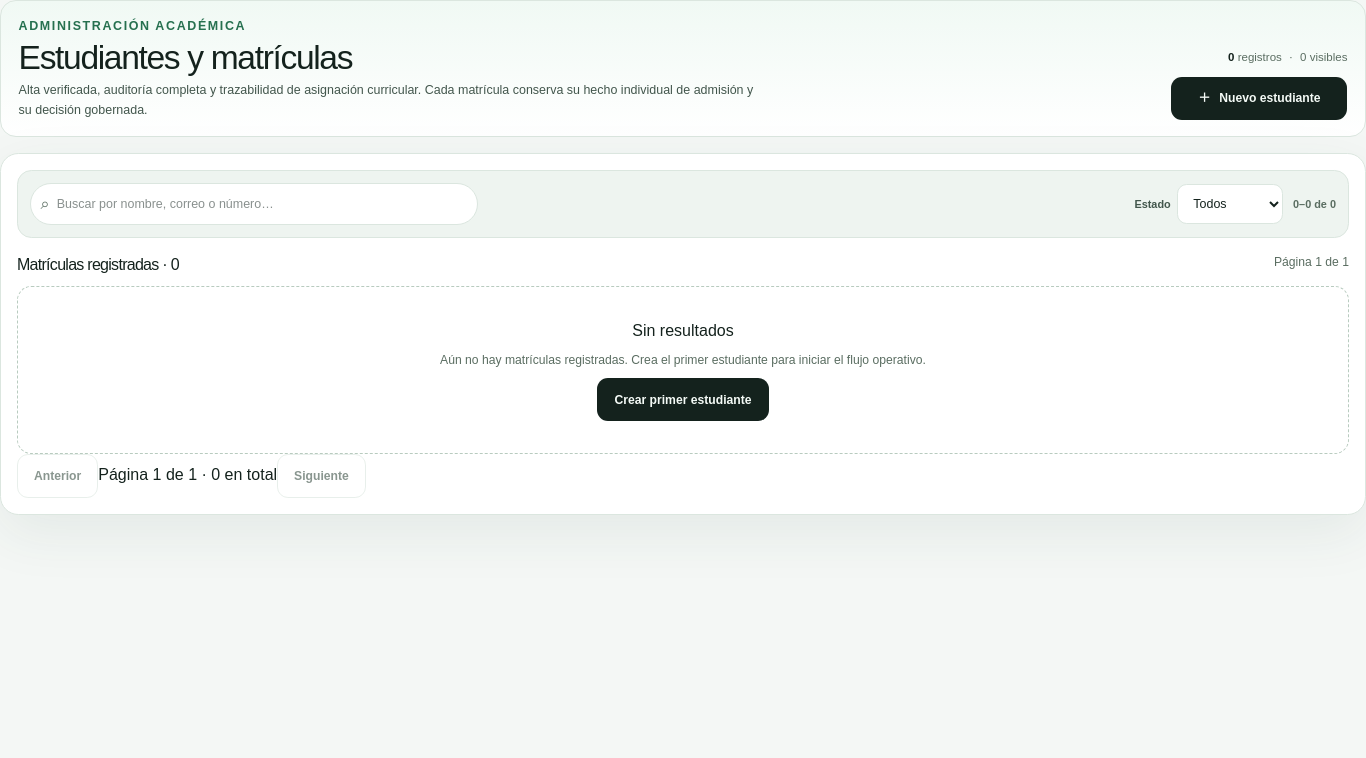
Scenario: StudentAdministrationWorkspace › allows creating a period inline when the catalog is empty
This screenshot has width=1366, height=758.
Click the button "＋ Nuevo estudiante". click: x=1259, y=98
box: [1171,77,1347,120]
(page scrolled)
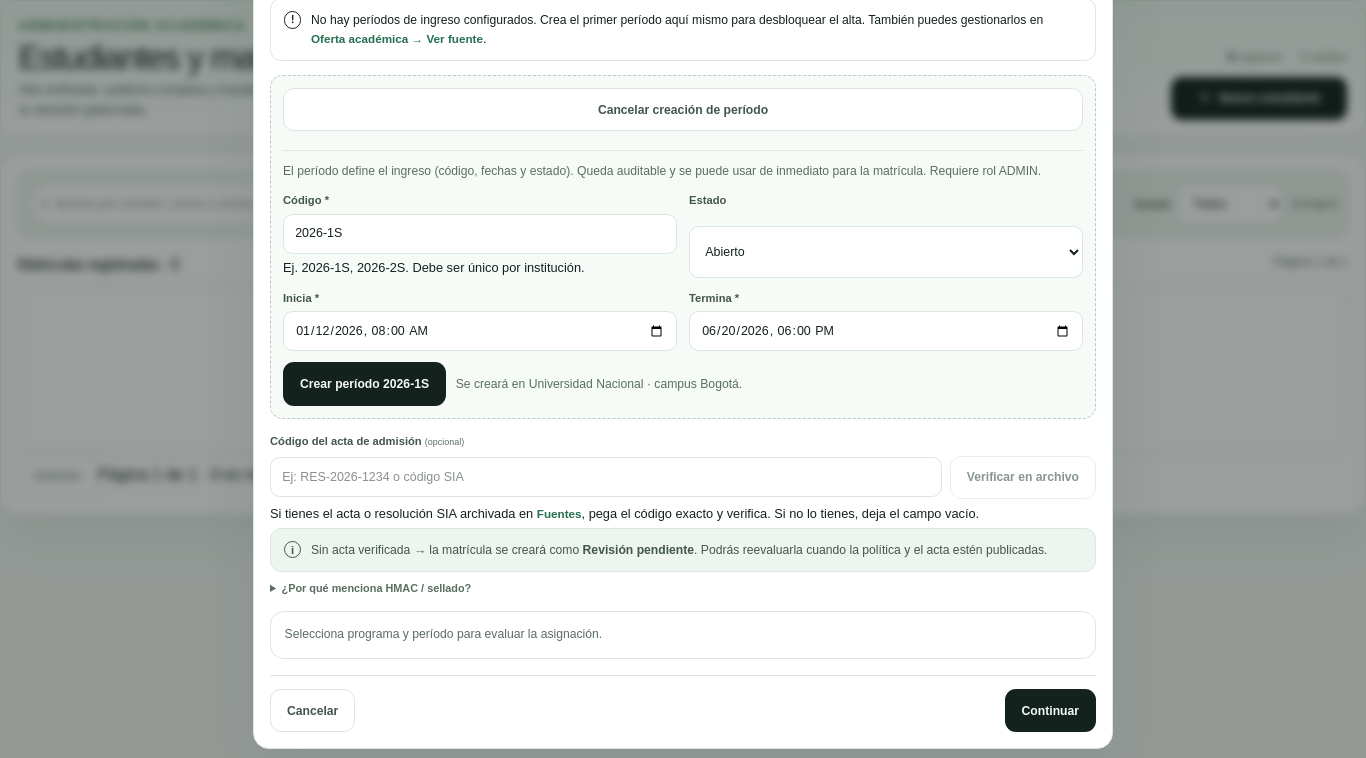
Check: the text "No hay períodos de ingreso configurados" is shown, box [311,13,1043,27]
Check: the field labelled "Código *" is shown, box [283,214,677,254]
Click the button "Crear período 2026-1S". click: x=365, y=384
box: [283,362,446,406]
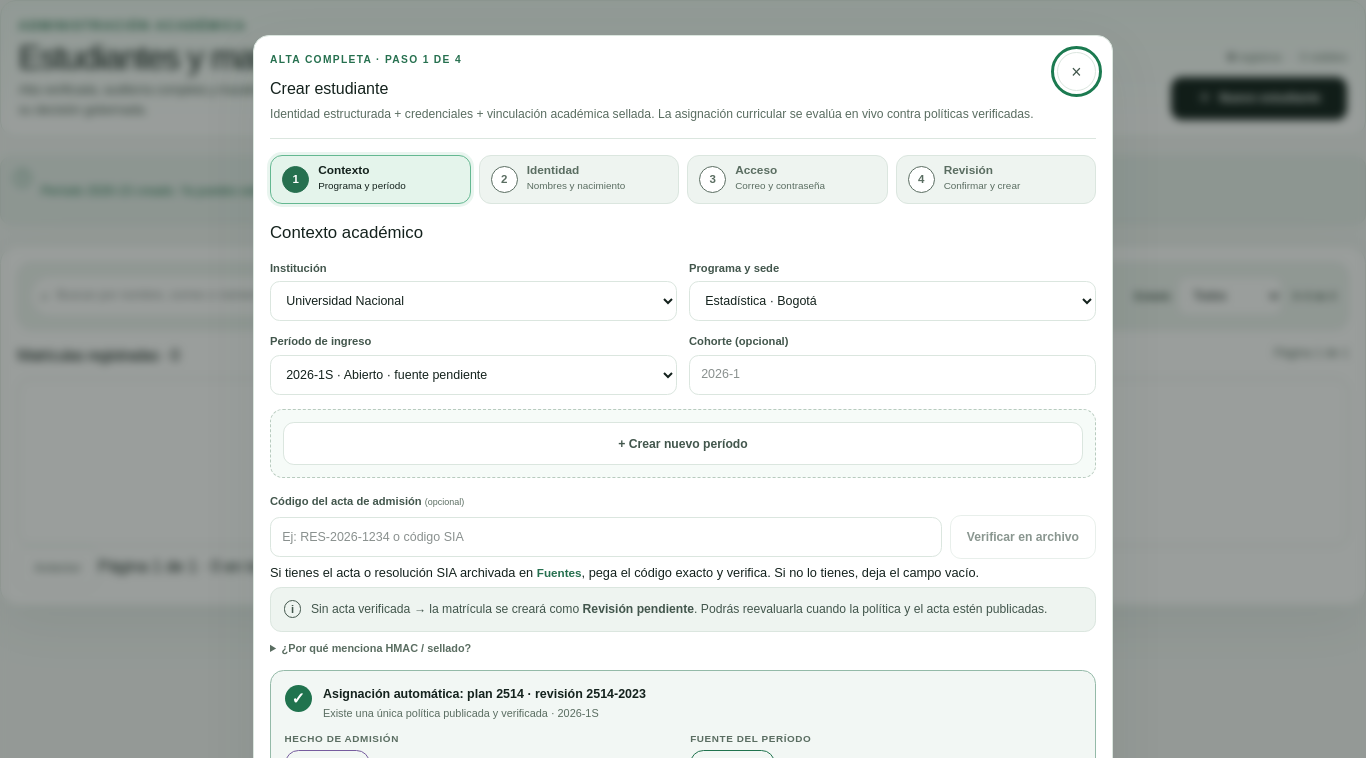
Check: the text "Período 2026-1S creado" is shown, box [41,184,423,198]
